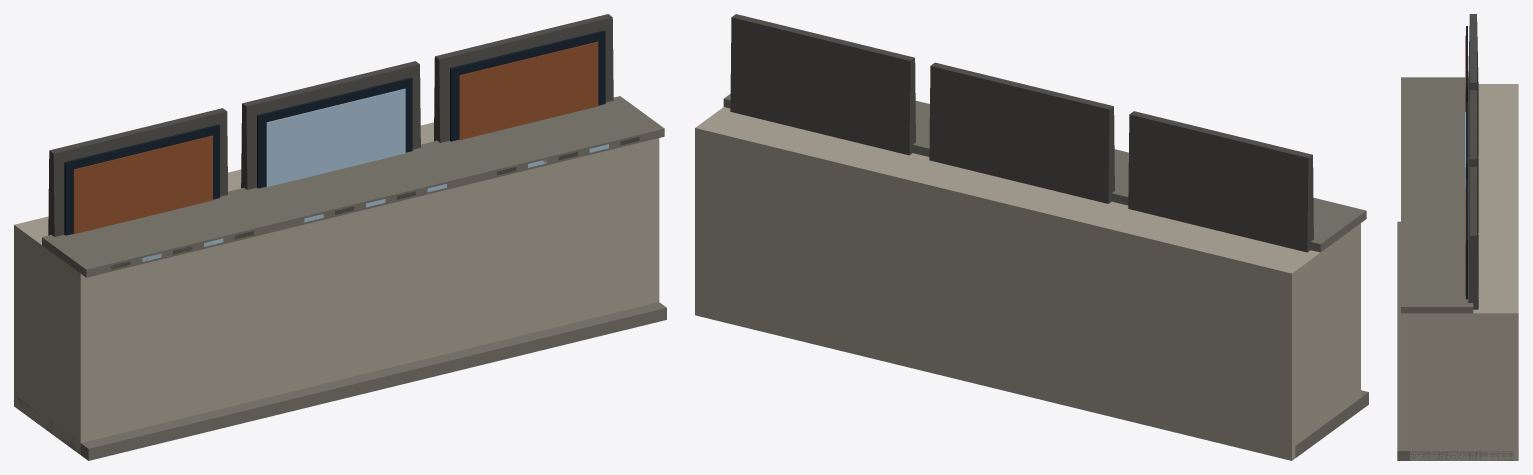
Rendered from civilian_console_bank.glb.
The picture shows the model from 3 angles, left to right: view 1: azimuth 30°, elevation 25°; view 2: azimuth 150°, elevation 25°; view 3: azimuth 270°, elevation 25°; orthographic projection. The views are drawn at different scales.
Visible parts, largest first — view 1: civilian_console_bank; view 2: civilian_console_bank; view 3: civilian_console_bank.
Boxes of the visible parts, x1,y1,x2,y2 form: civilian_console_bank: (14, 14, 666, 460); civilian_console_bank: (695, 14, 1368, 460); civilian_console_bank: (1397, 14, 1518, 460).
Bounding box in the file's own units: 3 × 1.35 × 0.67.
